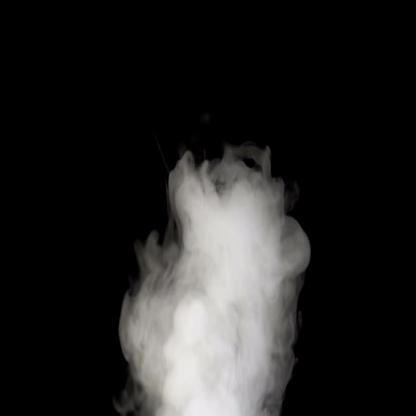smoke: (136, 156, 298, 416)
